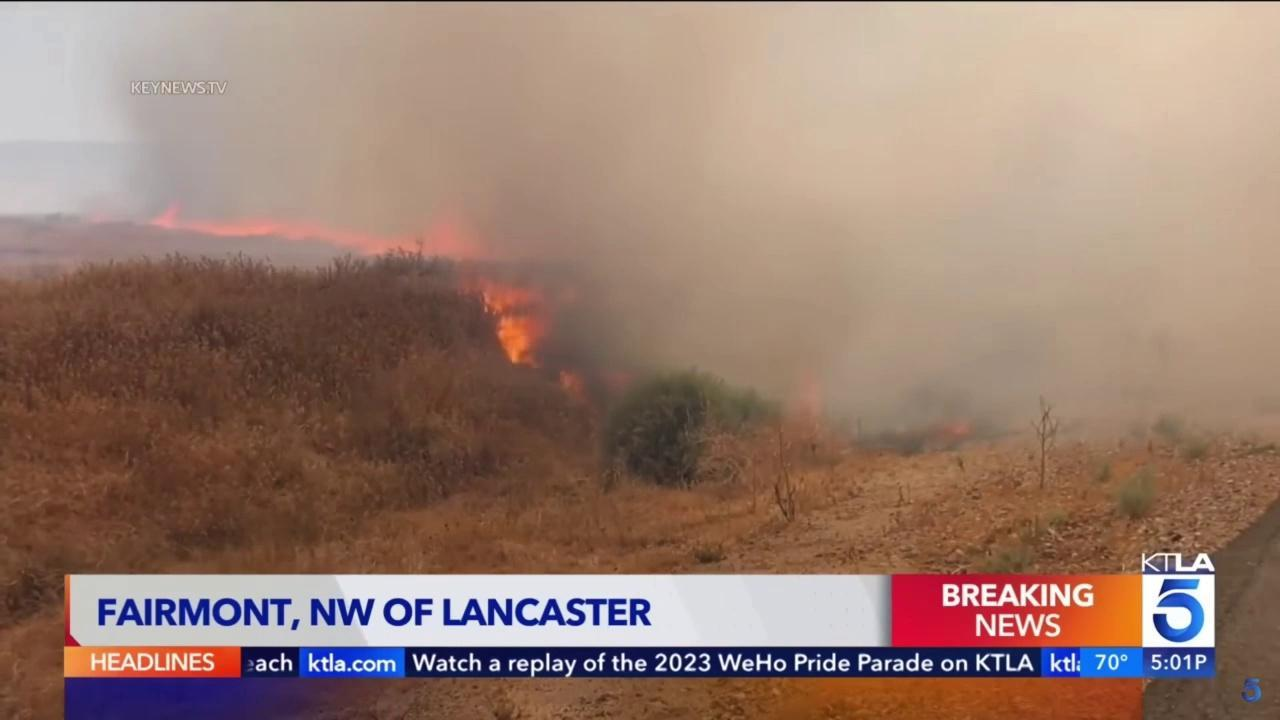fire: (143, 196, 494, 260), (448, 268, 556, 373), (558, 370, 593, 409), (925, 417, 972, 440)
smoke: (52, 3, 1280, 463)
